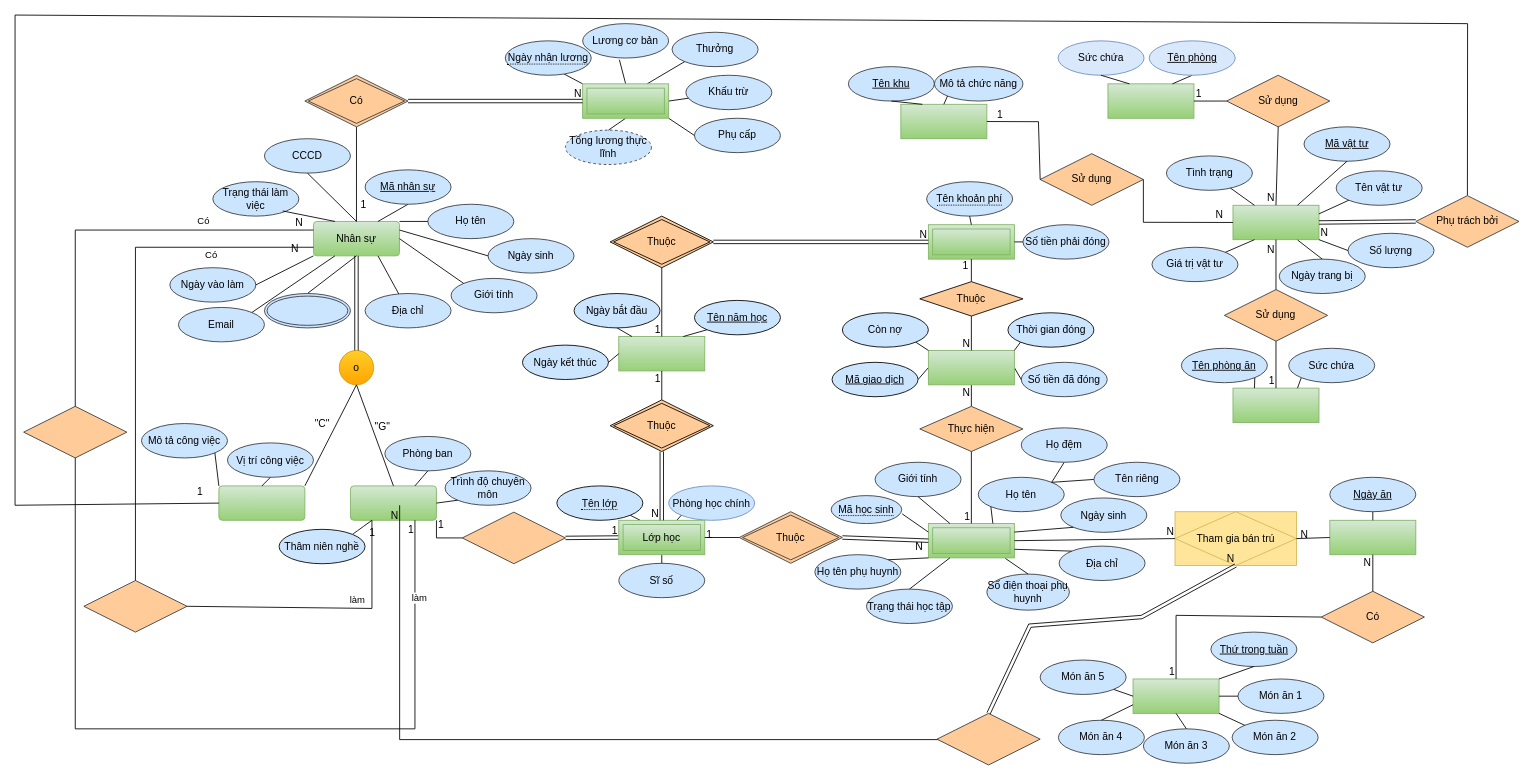
The diagram is 1534 pixels wide and 780 high, and some of its shapes have lost their labels. The centre of each missing label's shape, as x and y in pixels:
"Bảng lương tháng" goes at point (625, 100).
"Cán bộ nhân viên" goes at point (261, 502).
"Cơ sở vật chất" goes at point (1275, 222).
"Giáo viên" goes at point (393, 502).
"Hiệu phó" goes at point (75, 431).
"Hiệu trường" goes at point (135, 606).
"Hướng dẫn" goes at point (988, 739).
"Học sinh" goes at point (971, 540).
"Khoản phí trong năm" goes at point (971, 241).
"Khu chức năng" goes at point (943, 121).
"Lần ăn" goes at point (1372, 537).
"Lần đóng phí" goes at point (971, 367).
"Năm học" goes at point (661, 353).
"Phòng học" goes at point (1150, 100).
"Phòng ăn" goes at point (1275, 405).
"Quản lý" goes at point (513, 537).
"Số điện thoại" goes at point (307, 310).
"Thực đơn" goes at point (1175, 695).
